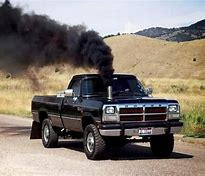smoke: (1, 1, 114, 86)
